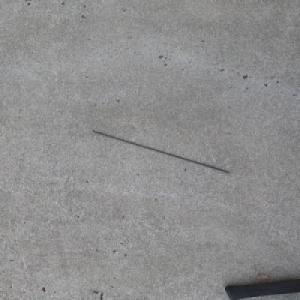LuggagePart: (91, 130, 231, 174)
